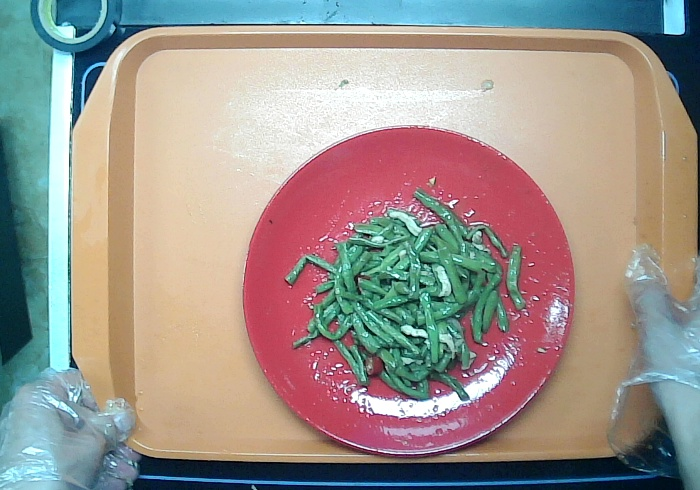HZYJPL-Hong_Se_Yuan_Pan: (240, 123, 574, 457)
